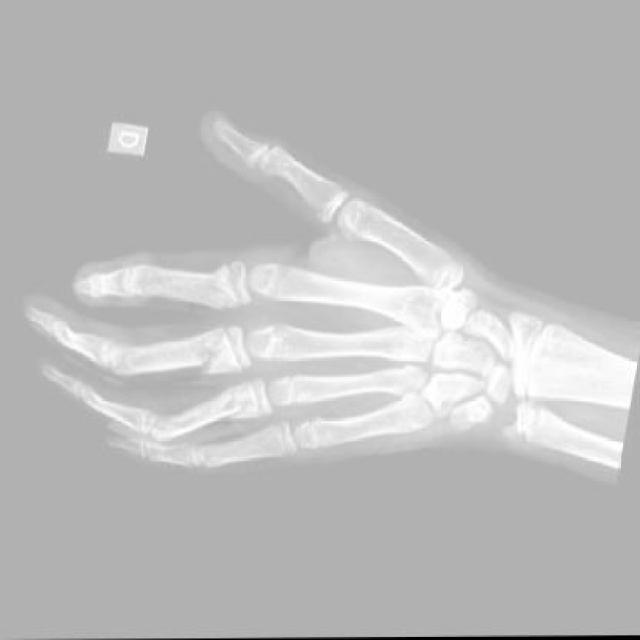Fracture: (188, 320, 233, 377), (195, 271, 240, 313), (214, 381, 247, 418)
